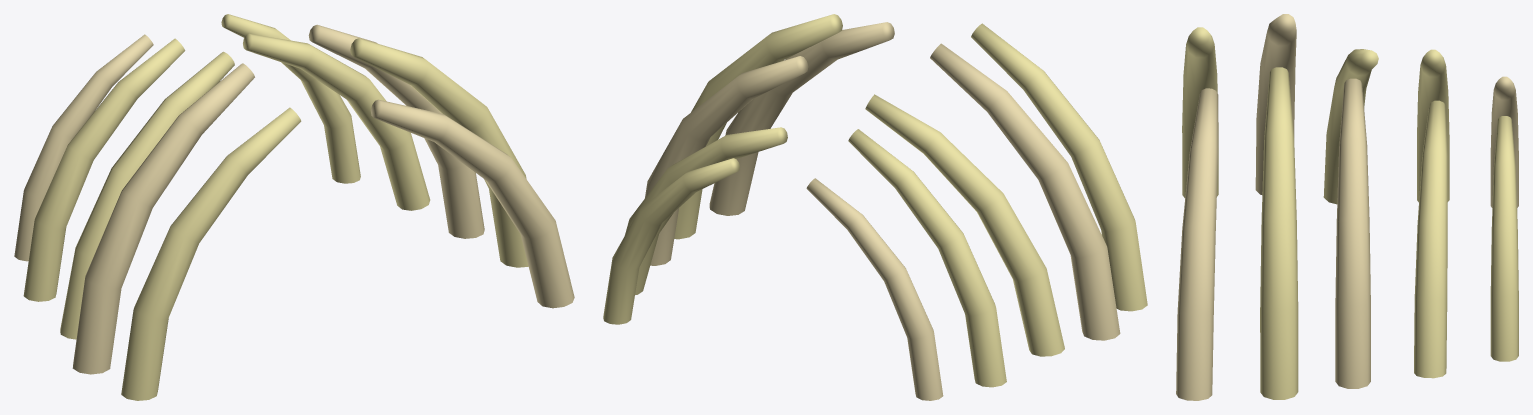
Rendered from Bones.fbx.
3 views of the same model, side by side, from view 1: azimuth 30°, elevation 25°; view 2: azimuth 150°, elevation 25°; view 3: azimuth 270°, elevation 25° (orthographic). The views are drawn at different scales.
Parts seen in each view (by area): view 1: Cylinder_215, Cylinder_223, Cylinder_222, Cylinder_219, Cylinder_218, Cylinder_216, Cylinder_214, Cylinder_220, Cylinder_217, Cylinder_221; view 2: Cylinder_215, Cylinder_223, Cylinder_216, Cylinder_219, Cylinder_220, Cylinder_222, Cylinder_217, Cylinder_221, Cylinder_214, Cylinder_218; view 3: Cylinder_214, Cylinder_222, Cylinder_217, Cylinder_218, Cylinder_221, Cylinder_215, Cylinder_223, Cylinder_216, Cylinder_219, Cylinder_220.
Part boxes in pixels (box(x1,y1,x2,y2)): Cylinder_215: box(72, 63, 254, 374); Cylinder_223: box(121, 107, 301, 400); Cylinder_222: box(370, 99, 574, 308); Cylinder_219: box(23, 38, 185, 301); Cylinder_218: box(243, 33, 430, 210); Cylinder_216: box(60, 51, 234, 339); Cylinder_214: box(350, 38, 528, 267); Cylinder_220: box(14, 34, 153, 261); Cylinder_217: box(308, 24, 484, 238); Cylinder_221: box(221, 14, 360, 183); Cylinder_215: box(930, 43, 1120, 340); Cylinder_223: box(971, 23, 1147, 311); Cylinder_216: box(865, 94, 1064, 356); Cylinder_219: box(848, 129, 1006, 387); Cylinder_220: box(806, 178, 943, 400); Cylinder_222: box(709, 22, 894, 215); Cylinder_217: box(645, 56, 808, 265); Cylinder_221: box(603, 158, 739, 324); Cylinder_214: box(674, 14, 842, 239); Cylinder_218: box(624, 127, 787, 294); Cylinder_214: box(1260, 67, 1298, 399); Cylinder_222: box(1176, 88, 1218, 400); Cylinder_217: box(1335, 78, 1370, 388); Cylinder_218: box(1414, 100, 1447, 378); Cylinder_221: box(1490, 116, 1518, 361); Cylinder_215: box(1255, 14, 1296, 194); Cylinder_223: box(1182, 27, 1218, 198); Cylinder_216: box(1323, 49, 1378, 204); Cylinder_219: box(1417, 49, 1449, 202); Cylinder_220: box(1490, 76, 1518, 207).
Bounding box in the file's own units: 542 × 298 × 360.
